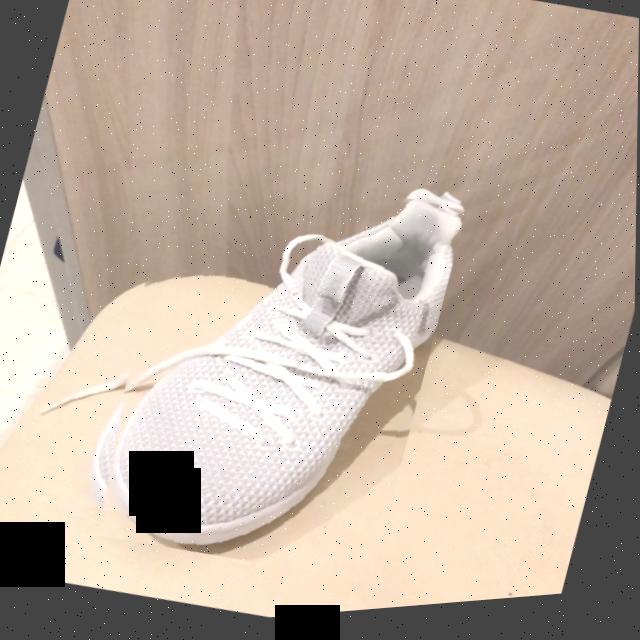shoe: (106, 205, 463, 558)
